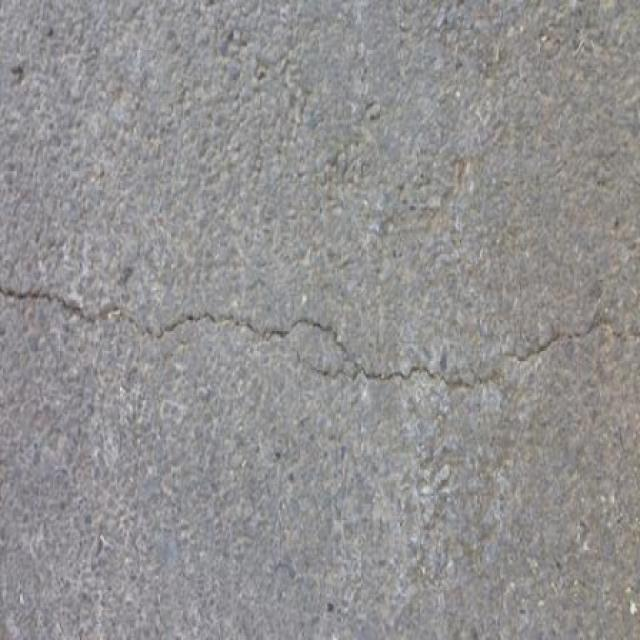Horizontal Crack: (0, 282, 640, 391)
